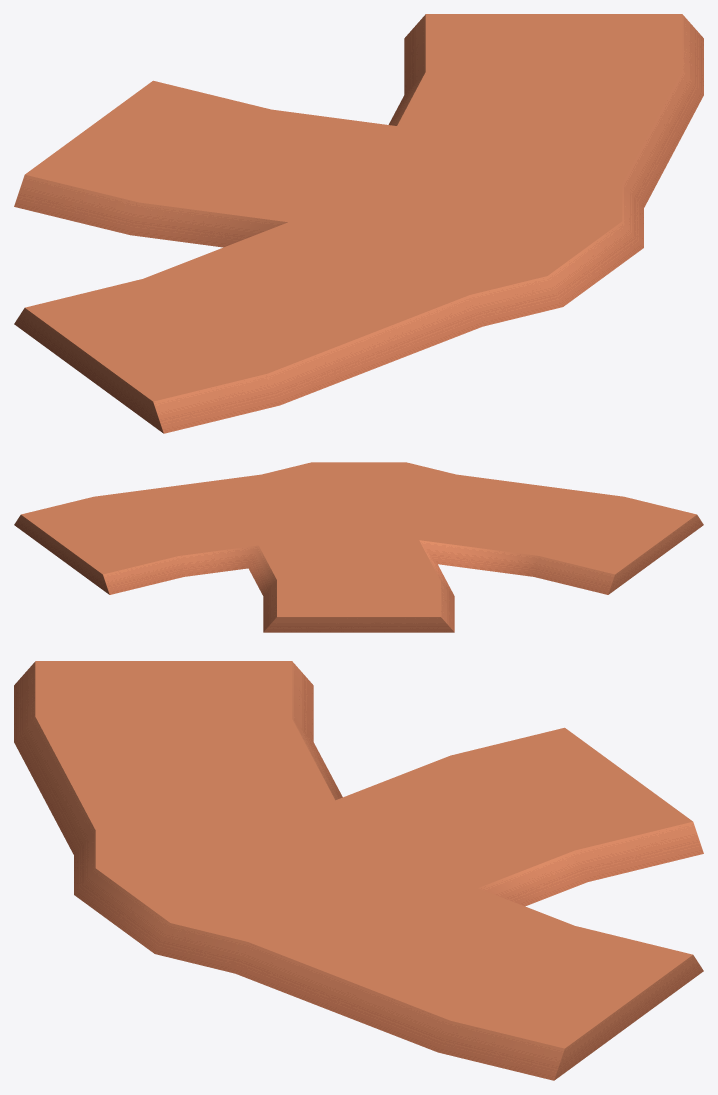
File: path-intersectionA.glb
3 renders of one model, top to bottom at view 1: azimuth 30°, elevation 25°; view 2: azimuth 150°, elevation 25°; view 3: azimuth 270°, elevation 25°, orthographic. The views are drawn at different scales.
Parts seen in each view (by area): view 1: path-intersectionA; view 2: path-intersectionA; view 3: path-intersectionA.
Part boxes in pixels (<box>): path-intersectionA: <box>14,14,703,433</box>; path-intersectionA: <box>14,462,703,632</box>; path-intersectionA: <box>14,661,703,1080</box>.
Size of the model in its own units: 0.8708 by 0.025 by 0.6423.
1 material, 1 textured.
